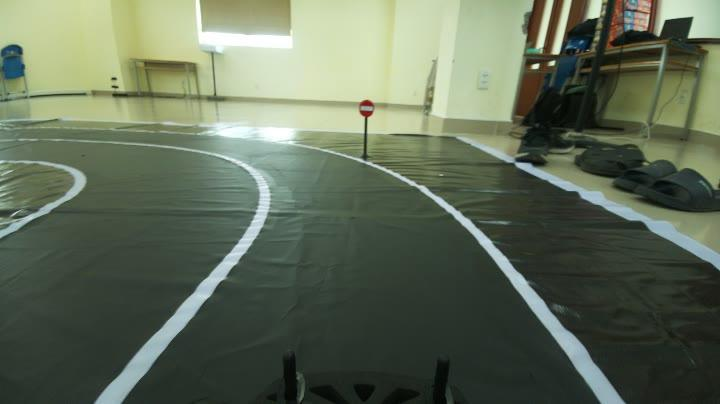no_entry: (352, 98, 384, 120)
